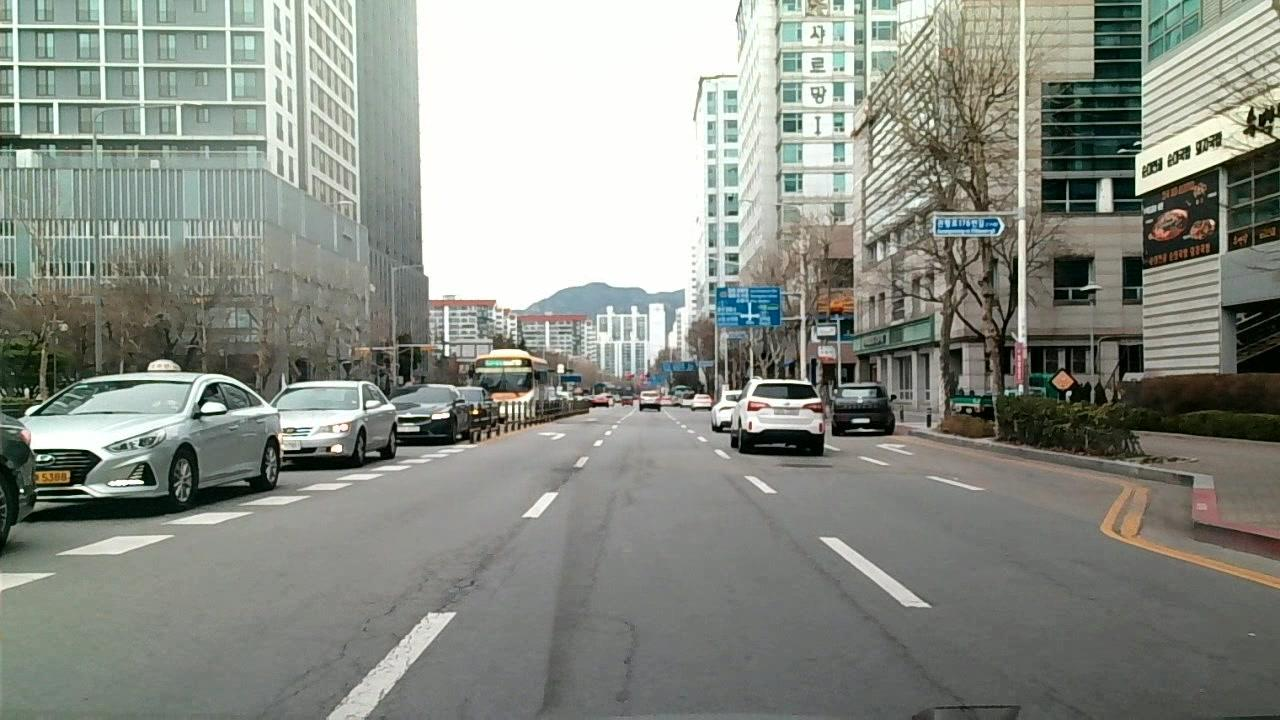banner: (803, 552, 968, 707), (273, 603, 403, 706), (417, 563, 493, 612), (616, 617, 642, 705)
